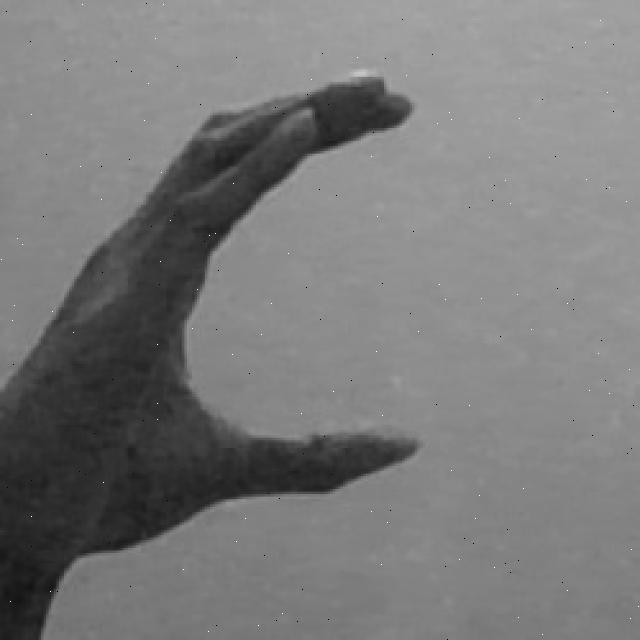C: (5, 71, 422, 640)
